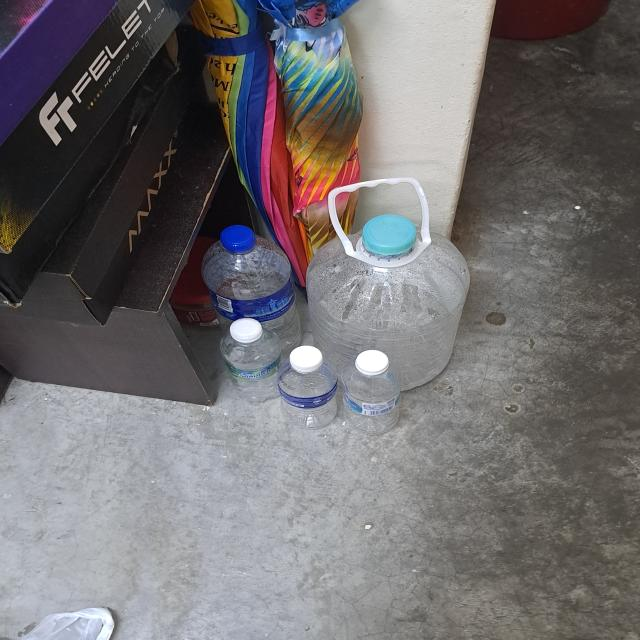plastic bottle: (309, 229, 462, 394), (203, 242, 310, 352), (215, 333, 298, 404), (336, 367, 403, 435), (281, 361, 340, 427)
plastic bottle cap: (360, 215, 420, 259), (288, 340, 329, 375), (218, 223, 257, 256), (228, 314, 265, 346), (355, 348, 392, 377)
